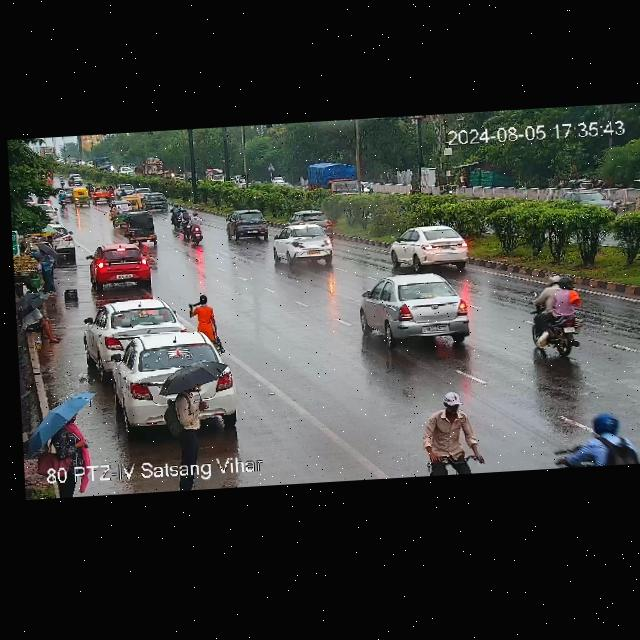car: (107, 332, 224, 411), (354, 271, 470, 346), (84, 296, 181, 364), (389, 222, 475, 272), (92, 239, 160, 287), (273, 224, 339, 269), (561, 186, 622, 213), (229, 206, 273, 240), (127, 211, 159, 244), (295, 207, 332, 232), (56, 222, 78, 258), (107, 199, 128, 226), (144, 193, 172, 212), (70, 188, 93, 210), (121, 194, 145, 210), (92, 184, 110, 203), (110, 185, 117, 199), (120, 188, 127, 195)
motorcycle: (523, 271, 587, 359), (546, 413, 640, 470), (427, 388, 486, 474), (168, 203, 193, 229), (190, 209, 203, 245), (58, 188, 68, 206)
person: (167, 385, 206, 462), (44, 417, 89, 482), (20, 300, 60, 343), (194, 294, 225, 349), (39, 245, 59, 298), (43, 235, 54, 247)
truck: (301, 157, 364, 197)
